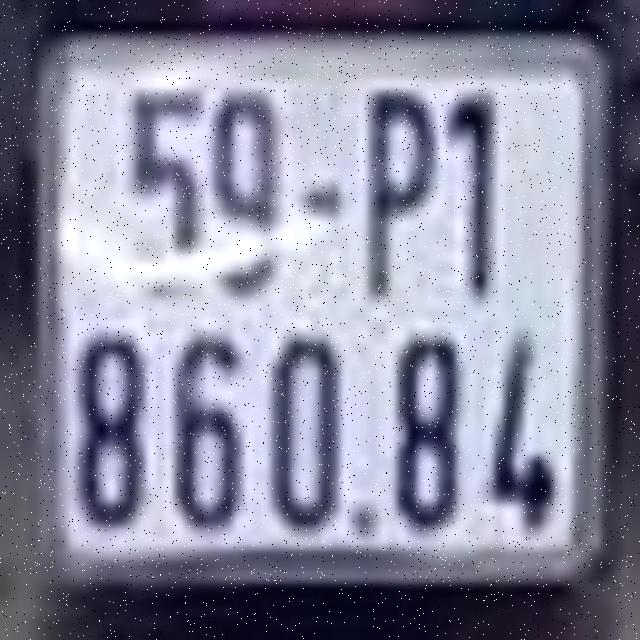0: (268, 326, 343, 531)
1: (445, 84, 503, 300)
4: (490, 331, 560, 535)
5: (126, 83, 204, 302)
6: (172, 324, 246, 531)
8: (76, 330, 145, 529), (394, 334, 461, 529)
9: (209, 80, 285, 301)
P: (360, 81, 440, 301)
